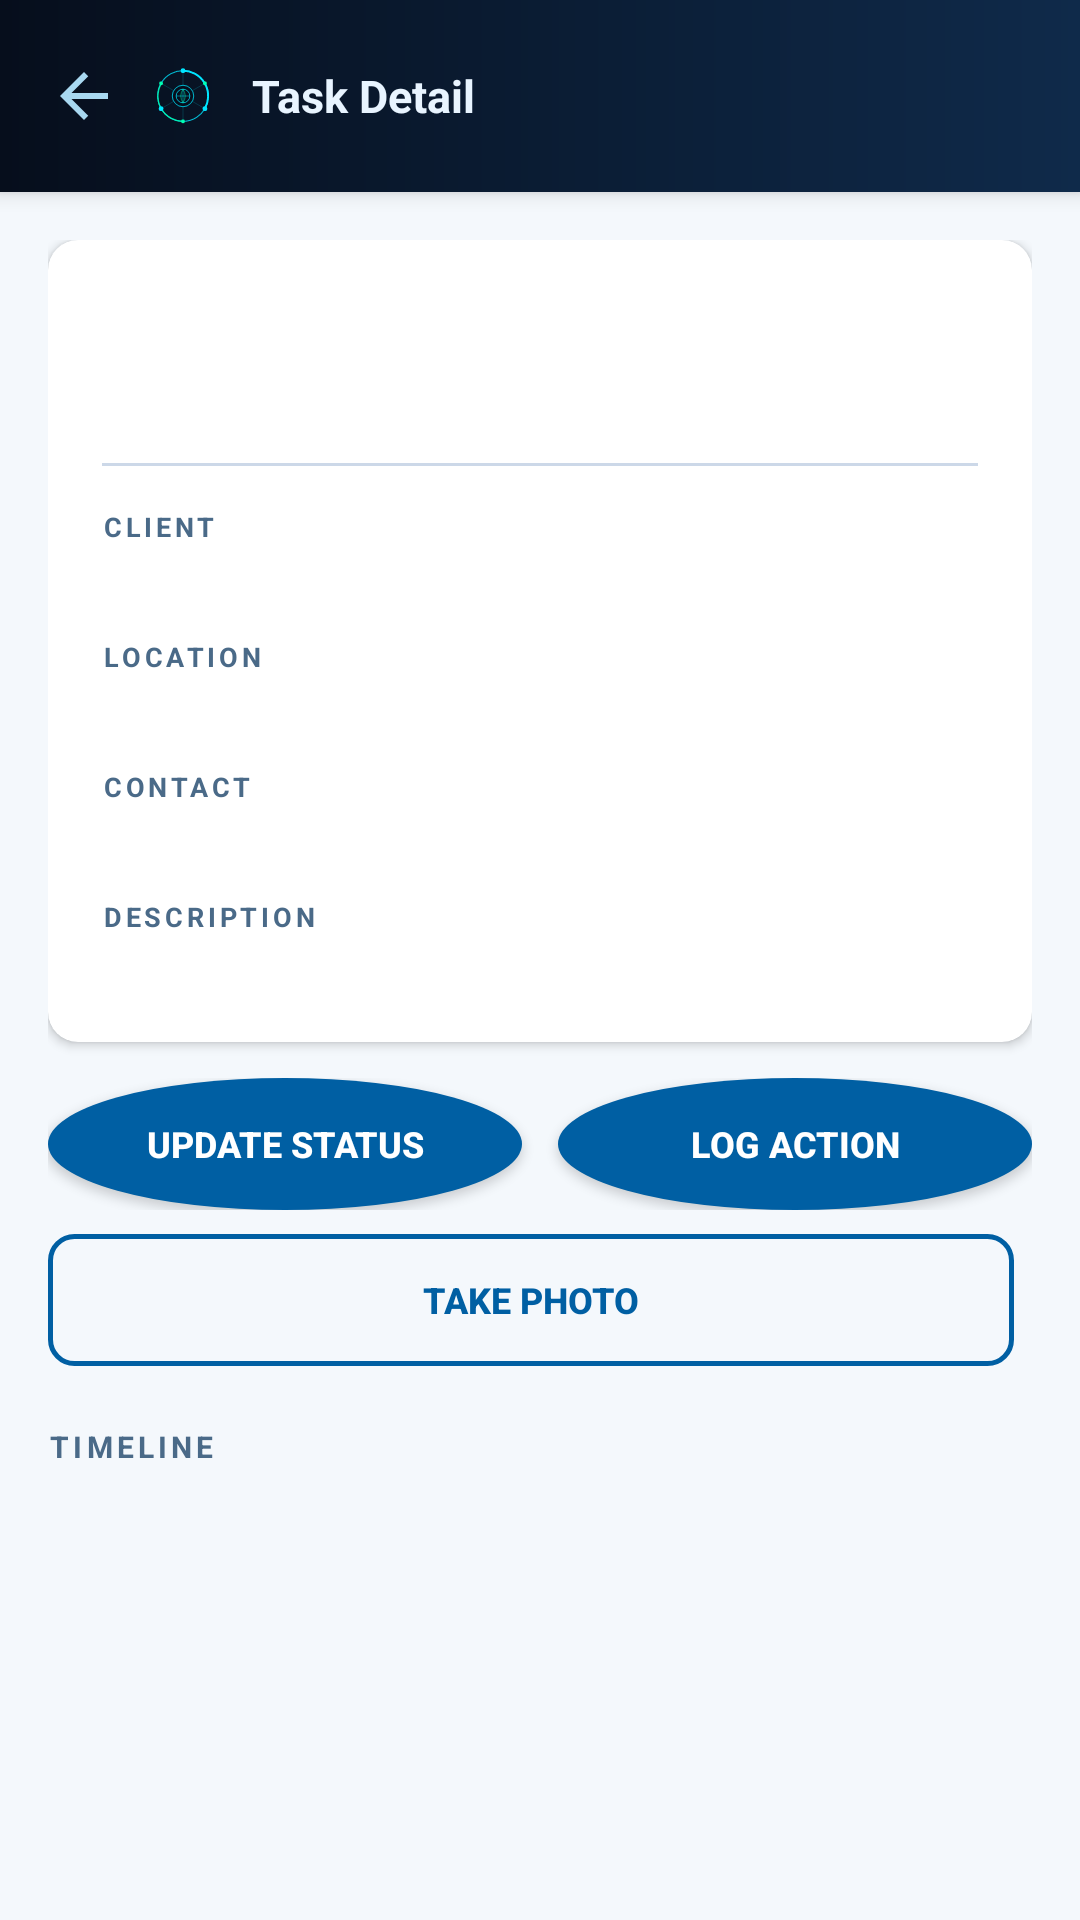

Where icons sit on this 1080 x 1920 app screen, as (x1, y1, x2, y2):
Back: (60, 72, 108, 120)
